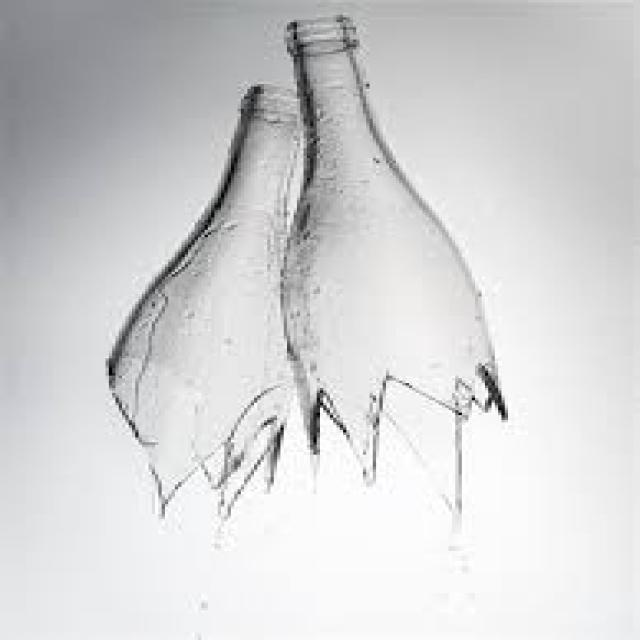Glass: (280, 18, 516, 528), (105, 82, 312, 524)
